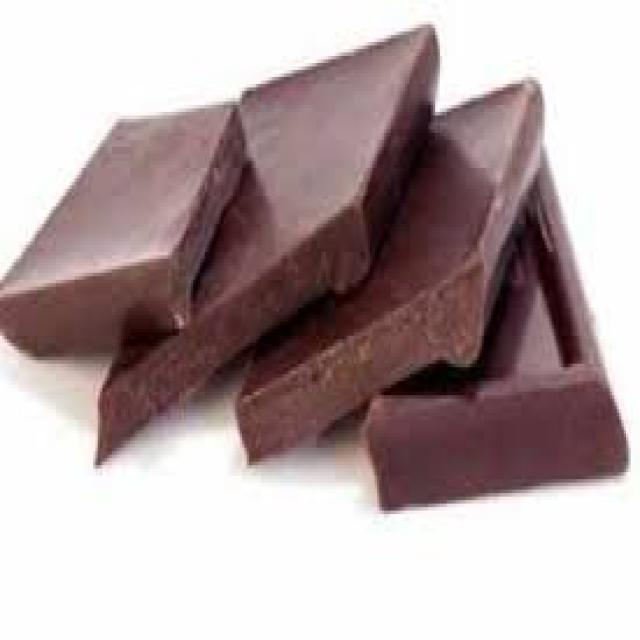Chocolate: (2, 21, 632, 514)
